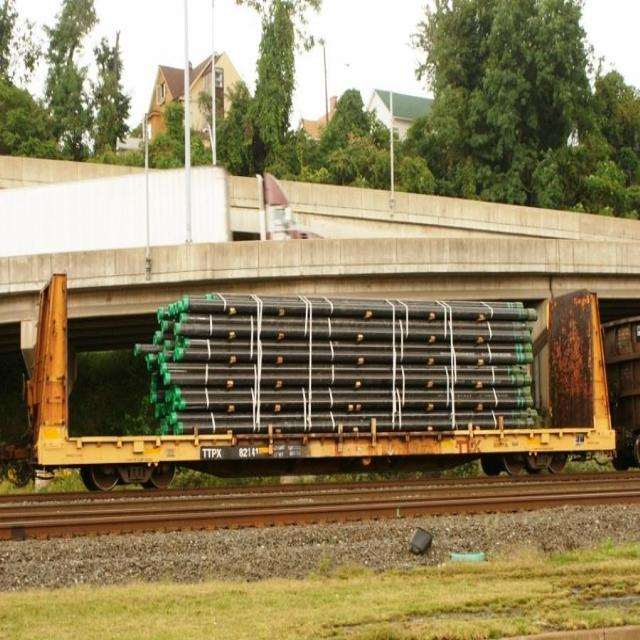cargo: (129, 290, 544, 430)
flatcar_bulkhead: (32, 268, 615, 476)
